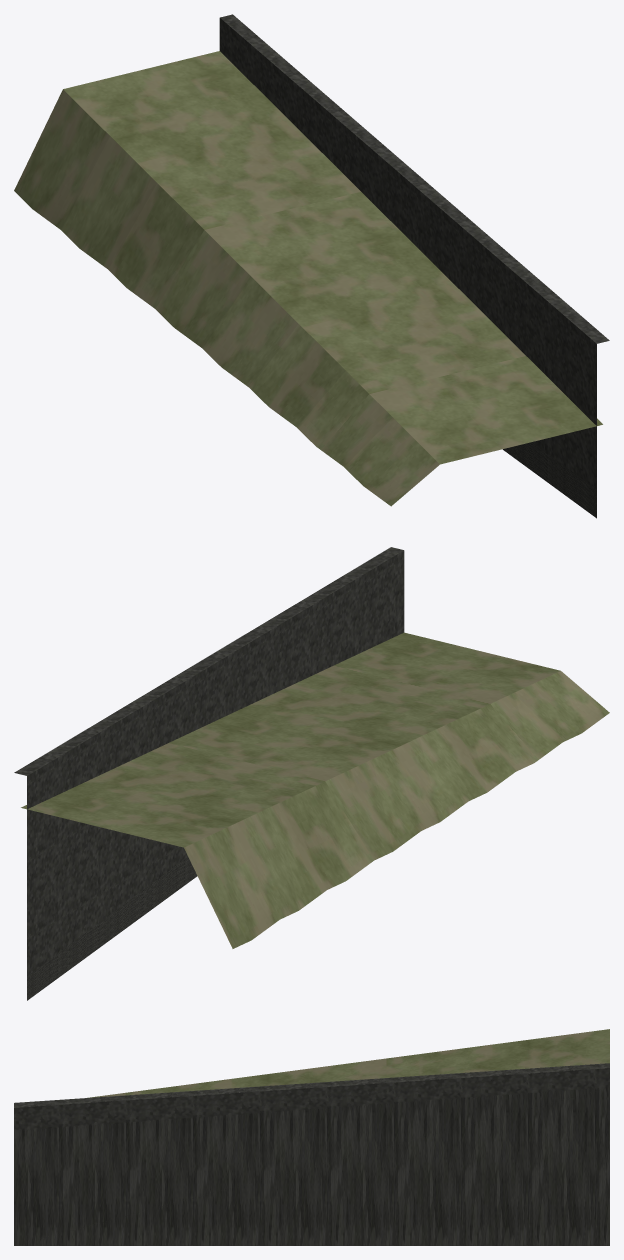
The picture shows the model from 3 angles, top to bottom: view 1: azimuth 30°, elevation 25°; view 2: azimuth 150°, elevation 25°; view 3: azimuth 270°, elevation 25°; orthographic projection. The views are drawn at different scales.
Bounding box in the file's own units: 5.36 × 5.26 × 16.
Materials: 2 (2 with a texture image).
